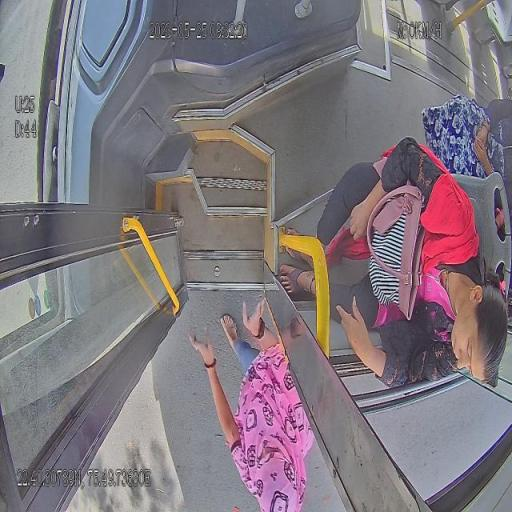persona: (278, 136, 508, 390), (188, 296, 314, 511), (421, 94, 509, 234)
